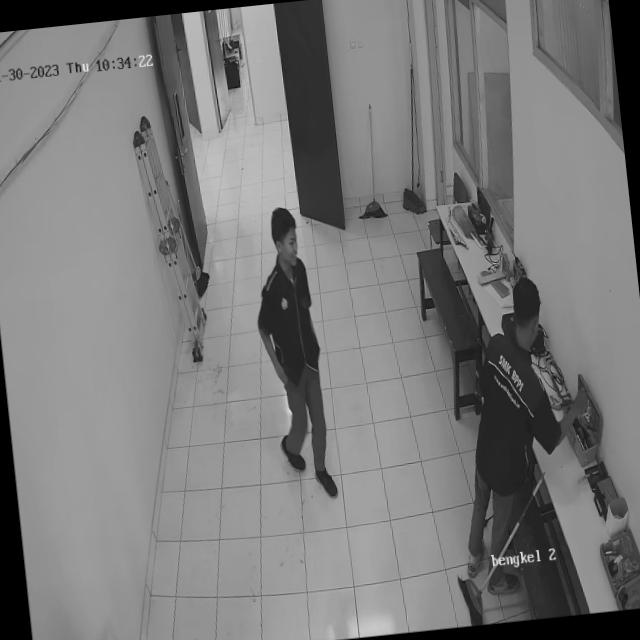person: (246, 198, 347, 528)
